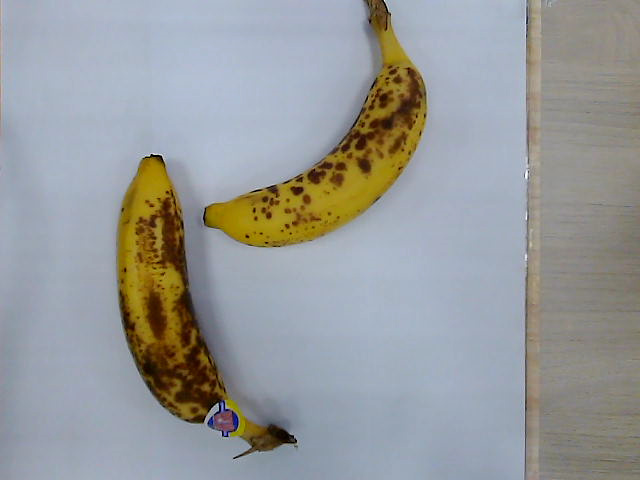rotten_banana: (201, 2, 429, 249), (118, 154, 297, 455)
